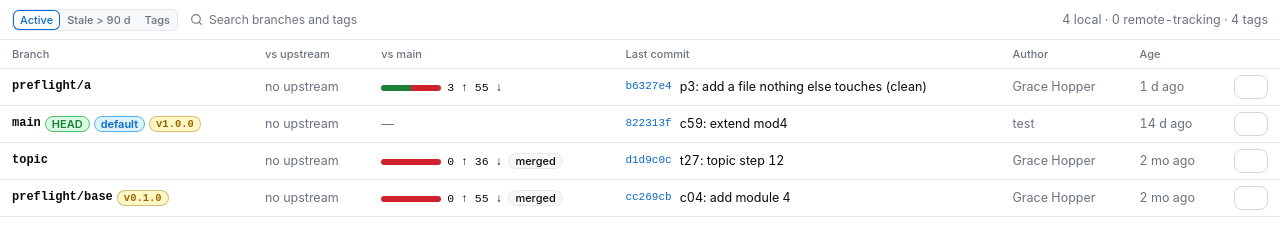
Test: BranchesView tags table (Design §14.6) › lists every tag with its kind, message, tagger and age
This screenshot has width=1280, height=246.
Click the button "Tags". click: (157, 20)
box: x1=138 y1=10 x2=177 y2=30
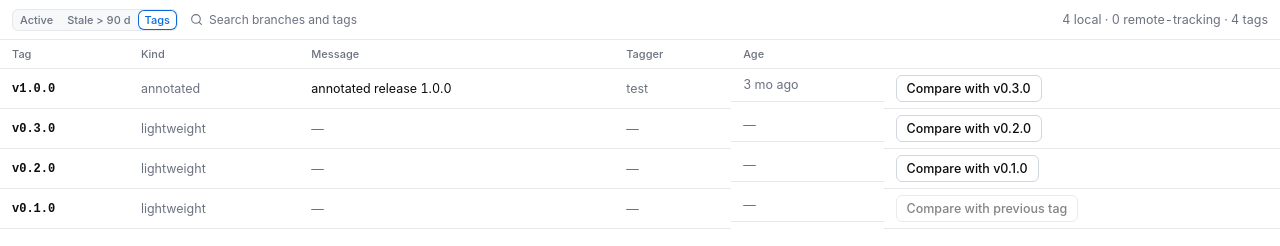
Now the table named "Tags" is shown
Now the row that starts with "v1.0.0" shows "annotated", box x1=141 y1=80 x2=200 y2=96
Now the row that starts with "v1.0.0" shows "annotated release 1.0.0", box x1=311 y1=80 x2=452 y2=96
